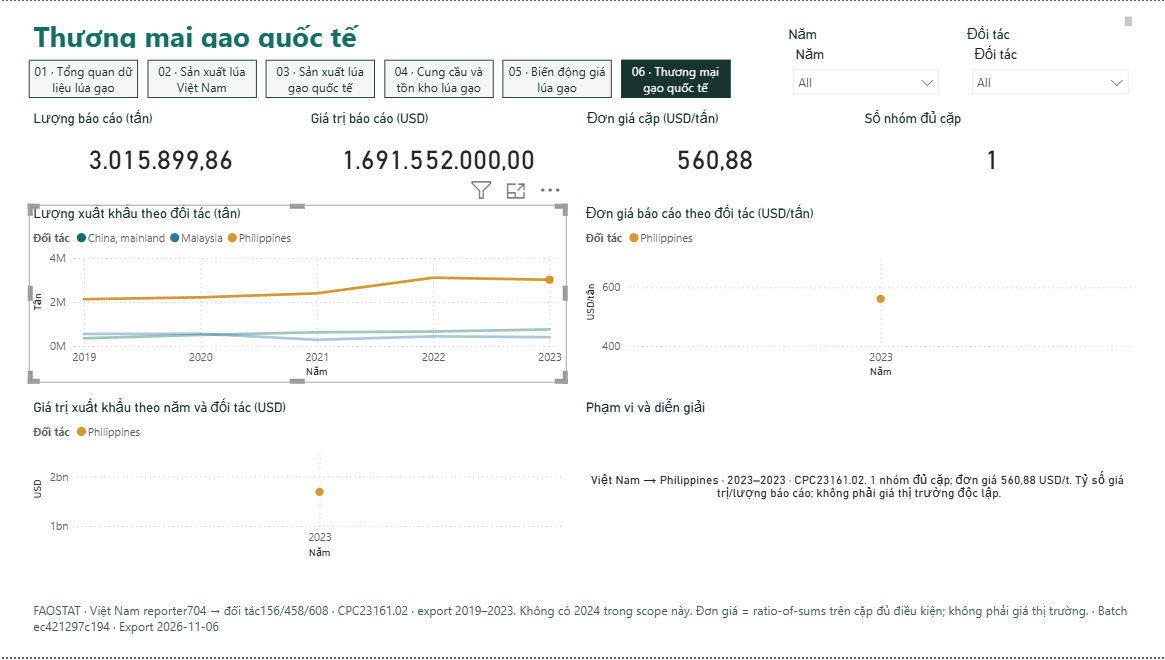

The page's visual inventory and layout, read from the dashboard file:
{"tool":"powerbi","page":{"name":"06 · Thương mại gạo quốc tế","canvas":[1280,720],"ordinal":5},"visuals":[{"type":"textbox","box":[32,12,1216,44],"z":1},{"type":"pageNavigator","box":[32,64,770,42],"z":2},{"type":"card","title":"Lượng báo cáo (tấn)","fields":{"Values":["Overview.Trade Quantity Display"]},"box":[32,120,290,90],"z":3},{"type":"card","title":"Giá trị báo cáo (USD)","fields":{"Values":["Overview.Trade Value Display"]},"box":[336,120,290,90],"z":4},{"type":"card","title":"Đơn giá cặp (USD/tấn)","fields":{"Values":["Overview.Trade Unit Value Display"]},"box":[640,120,290,90],"z":5},{"type":"card","title":"Số nhóm đủ cặp","fields":{"Values":["Overview.Trade Paired Groups Display"]},"box":[944,120,290,90],"z":6},{"type":"slicer","title":"Năm","fields":{"Values":["CalendarYear.Year"]},"box":[860,28,180,88],"z":7},{"type":"slicer","title":"Đối tác","fields":{"Values":["Trade.partner_name"]},"box":[1056,28,192,88],"z":8},{"type":"lineChart","title":"Lượng xuất khẩu theo đối tác (tấn)","fields":{"Category":["CalendarYear.Year"],"Series":["Trade.partner_name"],"Y":["Overview.Trade Quantity"]},"box":[32,224,590,195],"z":9},{"type":"lineChart","title":"Đơn giá báo cáo theo đối tác (USD/tấn)","fields":{"Category":["CalendarYear.Year"],"Series":["Trade.partner_name"],"Y":["Overview.Trade Unit Value"]},"box":[638,224,610,195],"z":10},{"type":"lineChart","title":"Giá trị xuất khẩu theo năm và đối tác (USD)","fields":{"Category":["CalendarYear.Year"],"Series":["Trade.partner_name"],"Y":["Overview.Trade Value"]},"box":[32,436,590,180],"z":11},{"type":"card","title":"Phạm vi và diễn giải","fields":{"Values":["Overview.Trade Insight"]},"box":[638,436,610,180],"z":12},{"type":"textbox","box":[32,654,1216,56],"z":90}]}

Visuals, with their boxes in screenshot pixels (x1, y1, x2, y2), scaled from the page's 1280x720 canvas onto the 1165x660 screenshot:
textbox: crop(29, 11, 1136, 51)
pageNavigator: crop(29, 59, 730, 97)
"Lượng báo cáo (tấn)" card: crop(29, 110, 293, 192)
"Giá trị báo cáo (USD)" card: crop(306, 110, 570, 192)
"Đơn giá cặp (USD/tấn)" card: crop(582, 110, 846, 192)
"Số nhóm đủ cặp" card: crop(859, 110, 1123, 192)
"Năm" slicer: crop(783, 26, 947, 106)
"Đối tác" slicer: crop(961, 26, 1136, 106)
"Lượng xuất khẩu theo đối tác (tấn)" lineChart: crop(29, 205, 566, 384)
"Đơn giá báo cáo theo đối tác (USD/tấn)" lineChart: crop(581, 205, 1136, 384)
"Giá trị xuất khẩu theo năm và đối tác (USD)" lineChart: crop(29, 400, 566, 565)
"Phạm vi và diễn giải" card: crop(581, 400, 1136, 565)
textbox: crop(29, 600, 1136, 651)
